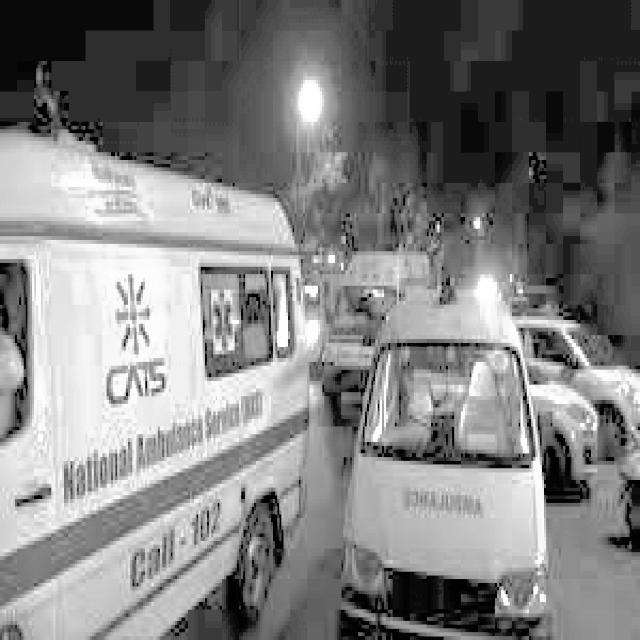Ambulance: (6, 88, 308, 624), (346, 259, 556, 617)
